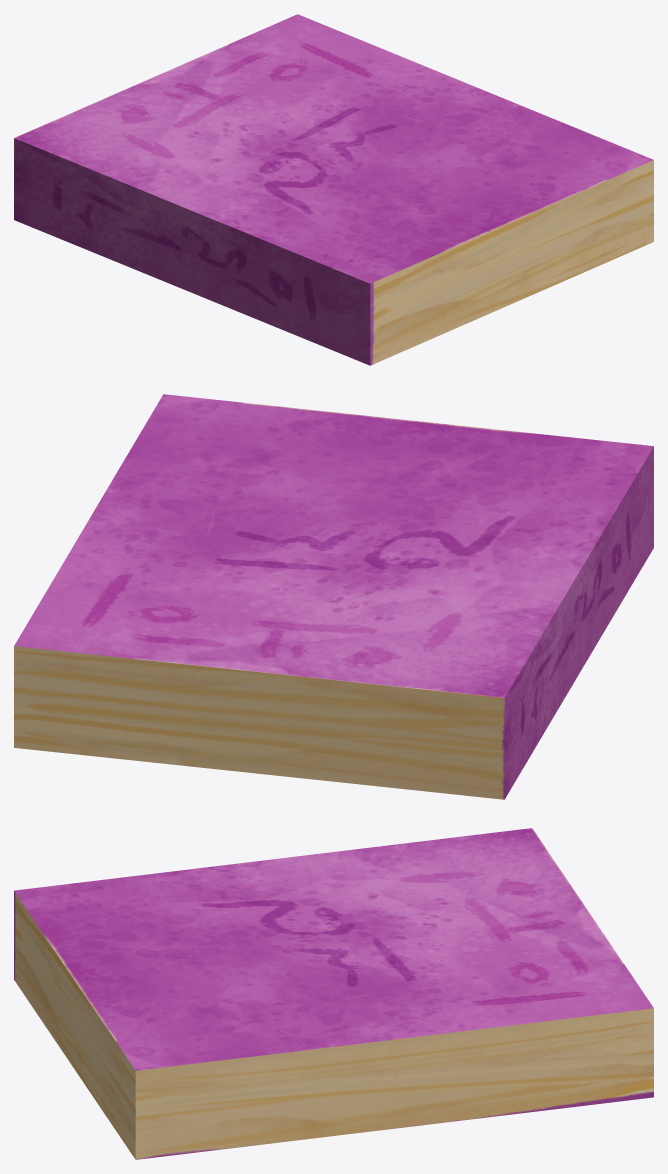
File: libro.glb
3 renders of one model, top to bottom at view 1: azimuth 30°, elevation 25°; view 2: azimuth 150°, elevation 25°; view 3: azimuth 270°, elevation 25°, orthographic. The views are drawn at different scales.
Parts seen in each view (by area): view 1: Q_libro_7.001; view 2: Q_libro_7.001; view 3: Q_libro_7.001.
Boxes of the visible parts, x1,y1,x2,y2 form: Q_libro_7.001: [14, 14, 653, 365]; Q_libro_7.001: [14, 394, 653, 799]; Q_libro_7.001: [14, 828, 653, 1159].
Bounding box in the file's own units: 0.8147 × 0.1395 × 0.9078.
1 material, 1 textured.
